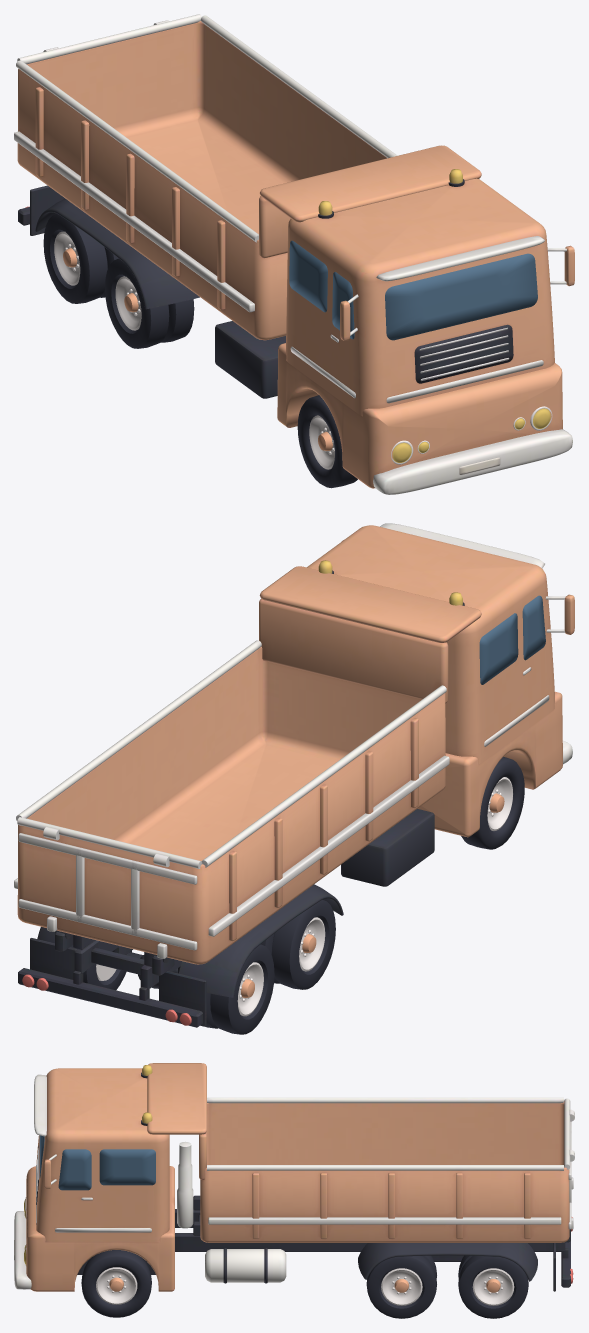
Rendered from grab3d.glb.
3 renders of one model, top to bottom at view 1: azimuth 30°, elevation 25°; view 2: azimuth 150°, elevation 25°; view 3: azimuth 270°, elevation 25°, orthographic. The views are drawn at different scales.
Parts seen in each view (by area): view 1: dump-truck_tipper, dump-truck_body, dump-truck_headlights; view 2: dump-truck_tipper, dump-truck_body, dump-truck_headlights; view 3: dump-truck_tipper, dump-truck_body, dump-truck_headlights.
Part boxes in pixels (x1,y1,x2,y2): dump-truck_tipper: [14, 14, 481, 340]; dump-truck_body: [18, 169, 574, 494]; dump-truck_headlights: [25, 206, 552, 488]; dump-truck_tipper: [14, 566, 481, 964]; dump-truck_body: [18, 523, 574, 1027]; dump-truck_headlights: [22, 595, 545, 1034]; dump-truck_tipper: [147, 1063, 574, 1242]; dump-truck_body: [14, 1065, 570, 1291]; dump-truck_headlights: [24, 1135, 573, 1318].
Size of the model in its own units: 2.95 by 3.2 by 8.26.
Materials: 3 (3 with a texture image).
